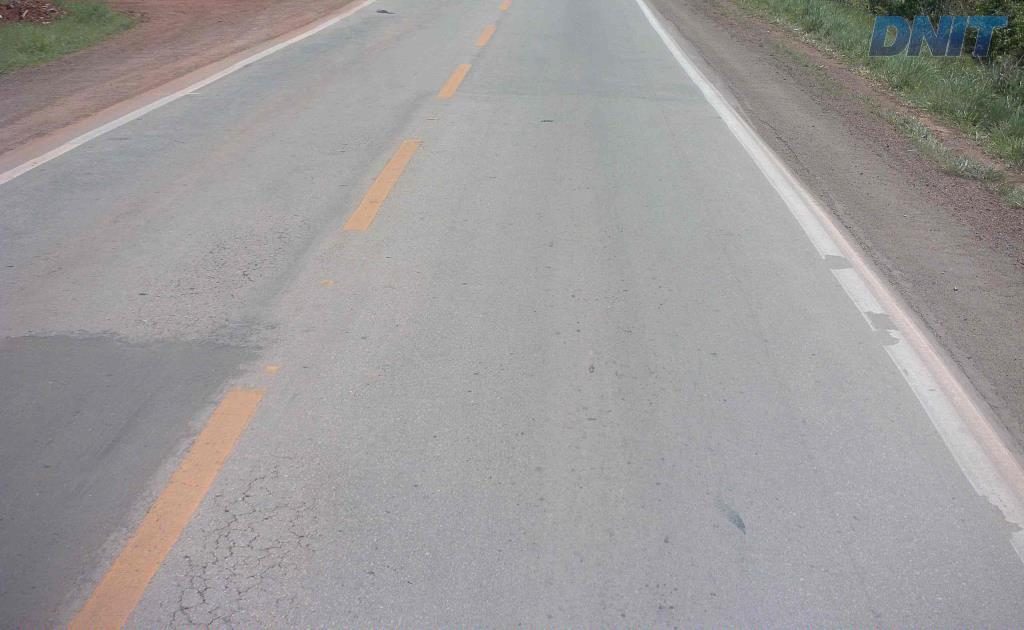crack: (151, 551, 244, 629)
